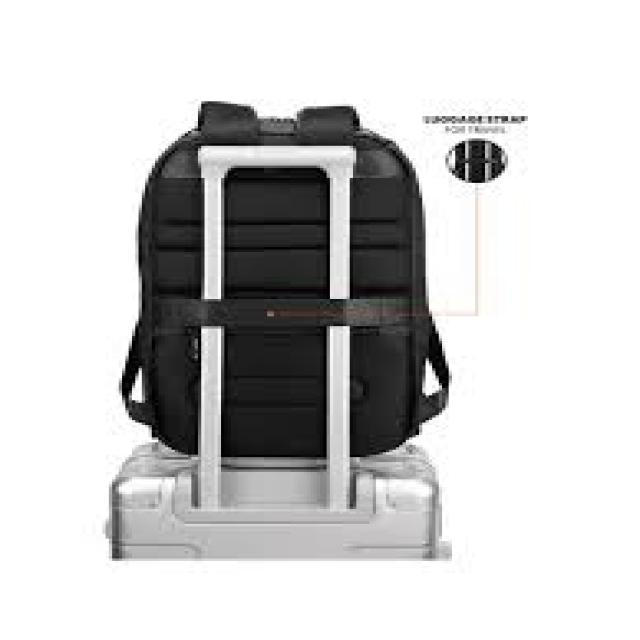backpack: (120, 100, 450, 461)
